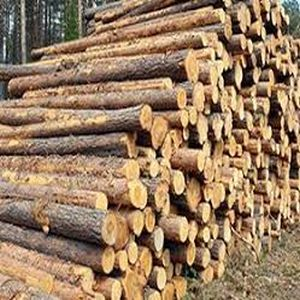log: (147, 113, 175, 160), (150, 176, 171, 219), (181, 43, 202, 86), (98, 211, 121, 247), (124, 179, 148, 211), (184, 176, 203, 215), (117, 130, 140, 160), (137, 245, 155, 283), (135, 100, 155, 134), (190, 79, 209, 114), (98, 246, 118, 275), (193, 112, 210, 146), (233, 2, 251, 34), (128, 210, 146, 239), (171, 168, 187, 200), (150, 226, 167, 256), (208, 111, 223, 143), (122, 157, 140, 183), (175, 213, 190, 244), (231, 61, 247, 90), (153, 266, 170, 292), (219, 217, 235, 244), (93, 190, 110, 215), (125, 238, 139, 268), (184, 240, 199, 268), (107, 278, 124, 300), (143, 204, 155, 235), (222, 112, 234, 142), (146, 159, 163, 180), (212, 182, 226, 207), (160, 247, 173, 273), (215, 238, 228, 264), (175, 87, 188, 113), (186, 105, 201, 127), (206, 63, 221, 85), (116, 248, 129, 273), (195, 147, 207, 174), (188, 218, 200, 244), (199, 203, 213, 225), (177, 108, 191, 130), (199, 246, 211, 271), (203, 181, 215, 205), (198, 248, 210, 271), (221, 22, 234, 41), (236, 32, 248, 52), (259, 97, 274, 113), (249, 68, 262, 86), (162, 74, 176, 90), (200, 225, 211, 245), (210, 85, 221, 105), (210, 223, 220, 242), (247, 38, 256, 56)
